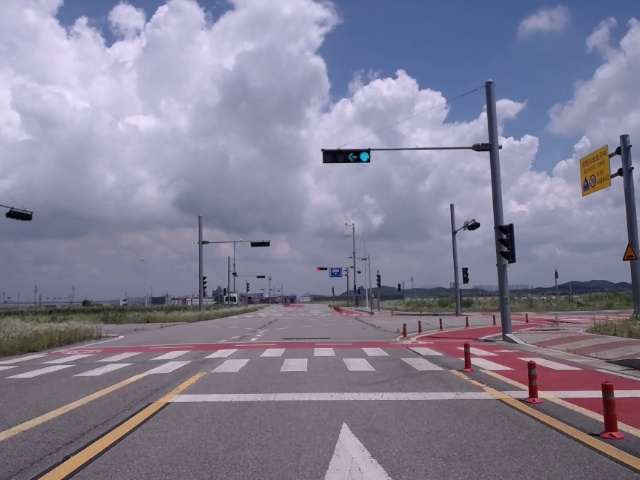all_green_4: (318, 149, 372, 165)
